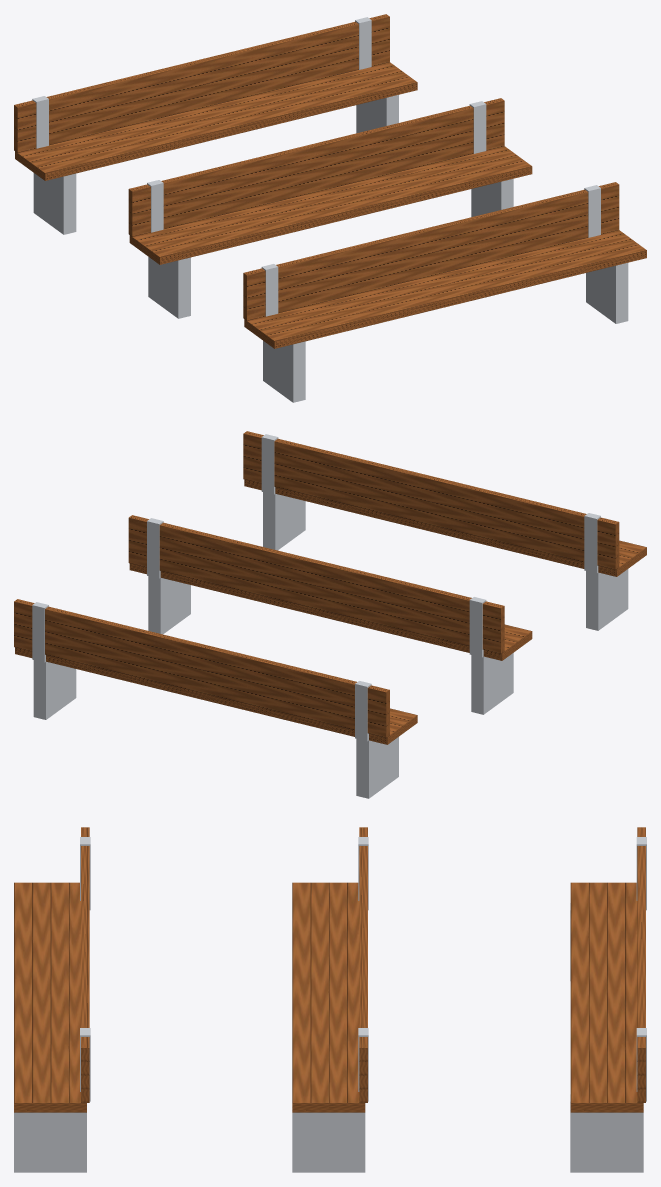
The model's file is velodrome-and-track-cycling-track-centre-bench-run-ed33c106__38012.glb.
3 renders of one model, top to bottom at view 1: azimuth 30°, elevation 25°; view 2: azimuth 150°, elevation 25°; view 3: azimuth 270°, elevation 25°, orthographic. The views are drawn at different scales.
Visible parts, largest first — view 1: track-centre-bench-run-board, track-centre-bench-run-steel; view 2: track-centre-bench-run-board, track-centre-bench-run-steel; view 3: track-centre-bench-run-board, track-centre-bench-run-steel.
Boxes of the visible parts, x1,y1,x2,y2 form: track-centre-bench-run-board: [14, 14, 646, 348]; track-centre-bench-run-steel: [32, 17, 628, 402]; track-centre-bench-run-board: [14, 431, 646, 744]; track-centre-bench-run-steel: [32, 434, 628, 798]; track-centre-bench-run-board: [14, 827, 645, 1112]; track-centre-bench-run-steel: [14, 837, 646, 1172].
Bounding box in the file's own units: 3 × 0.87 × 3.64.
2 materials, 1 textured.
